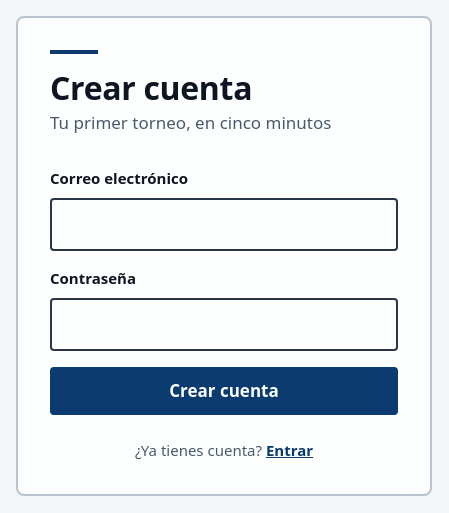
Scenario: SignUpRoute › confirms by email when the project requires confirmation
Type "club@example.es" into the field labelled "Correo electrónico" at (224, 224), box top-left (50, 198), bottom-right (398, 251)
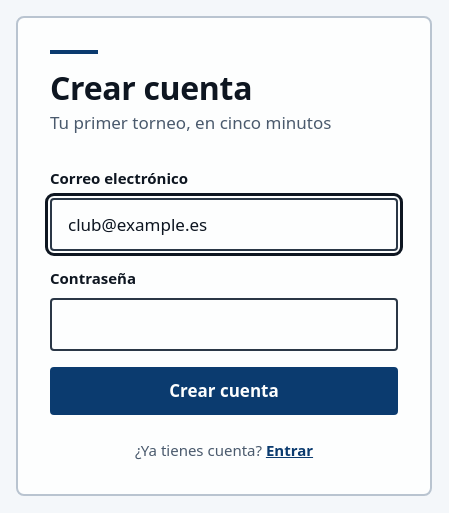
Type "contrasena-larga" into the password field labelled "Contraseña" at (224, 324), box top-left (50, 298), bottom-right (398, 351)
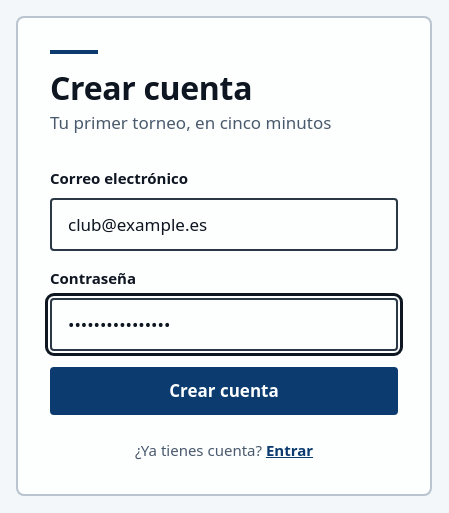
Click the button "Crear cuenta" at (224, 391), box top-left (50, 367), bottom-right (398, 415)
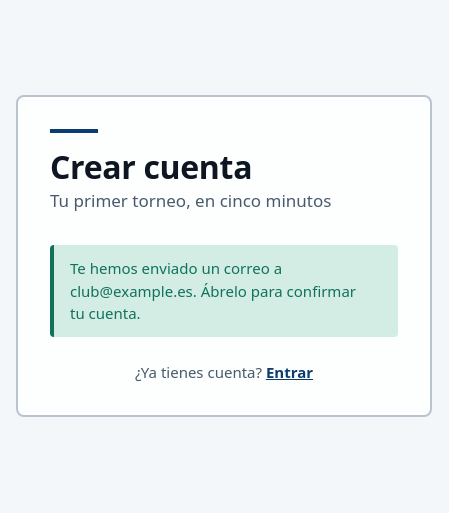
Expected: the message reads "Te hemos enviado un correo a club@example.es. Ábrelo para confirmar tu cuenta.", top-left (70, 258), bottom-right (356, 323)
